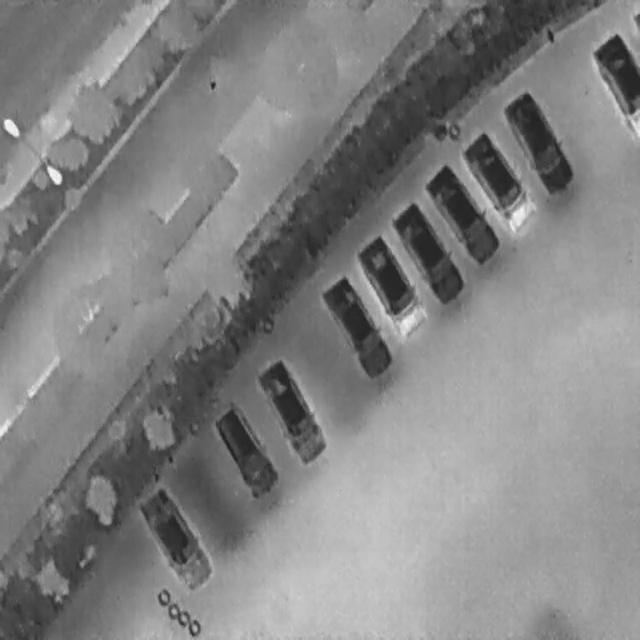Car: (133, 476, 222, 602), (349, 226, 435, 348), (383, 191, 470, 311), (417, 159, 507, 275), (316, 268, 400, 388), (249, 349, 331, 471), (455, 122, 541, 238), (497, 84, 577, 198), (205, 394, 284, 506), (590, 29, 638, 136)
